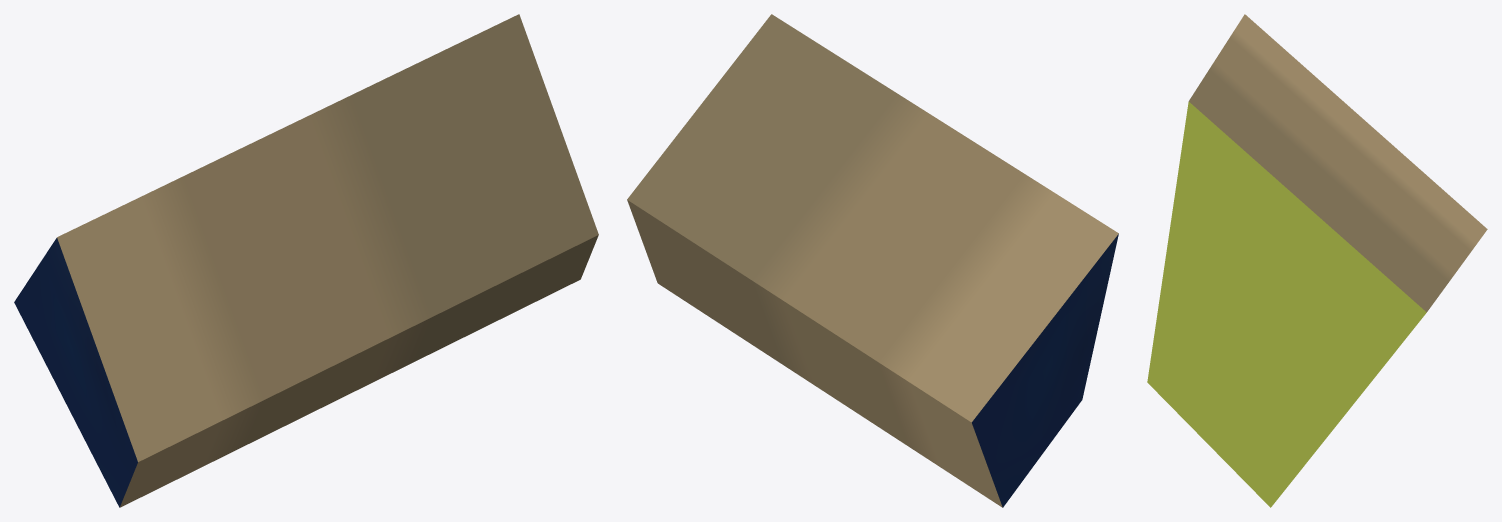
File: 062a_Maldives.glb
The picture shows the model from 3 angles, left to right: view 1: azimuth 30°, elevation 25°; view 2: azimuth 150°, elevation 25°; view 3: azimuth 270°, elevation 25°; orthographic projection. The views are drawn at different scales.
Visible parts, largest first — view 1: part_0; view 2: part_0; view 3: part_0.
Boxes of the visible parts, x1=… form: part_0: x1=14, y1=14, x2=598, y2=507; part_0: x1=627, y1=14, x2=1118, y2=507; part_0: x1=1147, y1=14, x2=1487, y2=507.
Size of the model in its own units: 0.2339 by 0.191 by 0.1154.
Materials: 1 (1 with a texture image).
